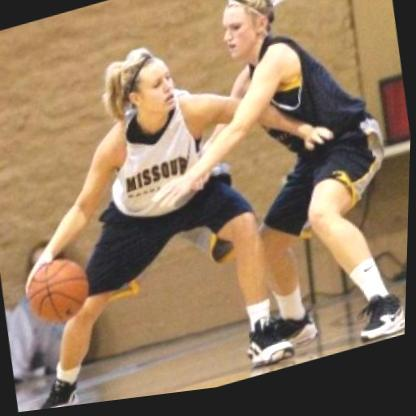basketball: (18, 248, 100, 336)
